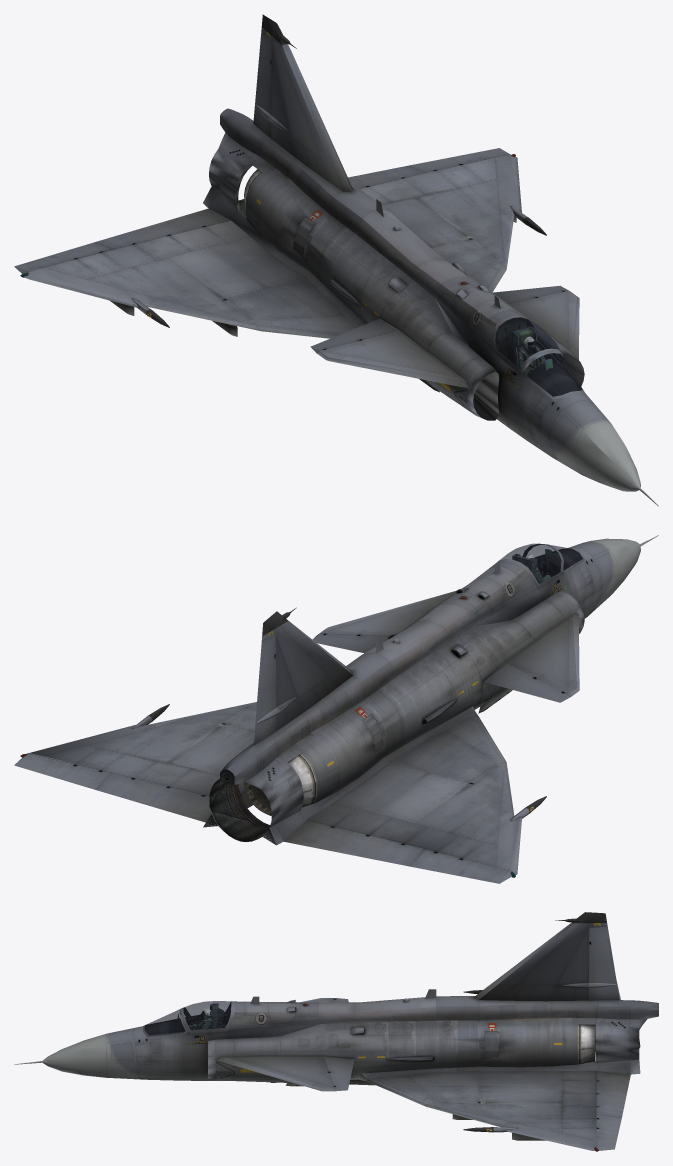
The model's file is Saab-37_Viggen.dat.obj.
The picture shows the model from 3 angles, top to bottom: view 1: azimuth 30°, elevation 25°; view 2: azimuth 150°, elevation 25°; view 3: azimuth 270°, elevation 25°; orthographic projection. The views are drawn at different scales.
Visible parts, largest first — view 1: SAAB-37-Viggen_LOD0_default, SAAB-37-Viggen_Glass01_default, SAAB-37-Viggen_FlapR01_default, SAAB-37-Viggen_RudderL01_default, SAAB-37-Viggen_AileronR01_default, SAAB-37-Viggen_CanardR01_default, SAAB-37-Viggen_AileronL01_default, SAAB-37-Viggen_FlapL01_default; view 2: SAAB-37-Viggen_LOD0_default, SAAB-37-Viggen_FlapR01_default, SAAB-37-Viggen_FlapL01_default, SAAB-37-Viggen_RudderL01_default, SAAB-37-Viggen_AileronR01_default, SAAB-37-Viggen_Glass01_default, SAAB-37-Viggen_AileronL01_default, SAAB-37-Viggen_CanardR01_default, SAAB-37-Viggen_EngineL01_default, SAAB-37-Viggen_CanardL01_default; view 3: SAAB-37-Viggen_LOD0_default, SAAB-37-Viggen_RudderL01_default, SAAB-37-Viggen_Glass01_default, SAAB-37-Viggen_FlapL01_default, SAAB-37-Viggen_AileronL01_default, SAAB-37-Viggen_CanardL01_default, SAAB-37-Viggen_EngineL01_default, SAAB-37-Viggen_Canopy01_default, SAAB-37-Viggen_BrakeL01_default.
Boxes of the visible parts, <box> form: SAAB-37-Viggen_LOD0_default: <box>20,14,658,506</box>; SAAB-37-Viggen_Glass01_default: <box>495,317,582,396</box>; SAAB-37-Viggen_FlapR01_default: <box>96,208,230,249</box>; SAAB-37-Viggen_RudderL01_default: <box>253,31,271,138</box>; SAAB-37-Viggen_AileronR01_default: <box>14,242,111,273</box>; SAAB-37-Viggen_CanardR01_default: <box>310,319,395,353</box>; SAAB-37-Viggen_AileronL01_default: <box>409,148,510,172</box>; SAAB-37-Viggen_FlapL01_default: <box>348,165,425,188</box>; SAAB-37-Viggen_LOD0_default: <box>20,535,658,877</box>; SAAB-37-Viggen_FlapR01_default: <box>284,820,425,866</box>; SAAB-37-Viggen_FlapL01_default: <box>96,772,211,822</box>; SAAB-37-Viggen_RudderL01_default: <box>253,633,280,745</box>; SAAB-37-Viggen_AileronR01_default: <box>409,849,511,883</box>; SAAB-37-Viggen_Glass01_default: <box>499,543,582,583</box>; SAAB-37-Viggen_AileronL01_default: <box>14,753,112,789</box>; SAAB-37-Viggen_CanardR01_default: <box>483,663,570,702</box>; SAAB-37-Viggen_EngineL01_default: <box>244,754,317,816</box>; SAAB-37-Viggen_CanardL01_default: <box>312,633,389,653</box>; SAAB-37-Viggen_LOD0_default: <box>14,912,658,1151</box>; SAAB-37-Viggen_RudderL01_default: <box>588,926,619,1000</box>; SAAB-37-Viggen_Glass01_default: <box>145,1001,230,1034</box>; SAAB-37-Viggen_FlapL01_default: <box>596,1071,630,1117</box>; SAAB-37-Viggen_AileronL01_default: <box>595,1114,621,1150</box>; SAAB-37-Viggen_CanardL01_default: <box>323,1057,354,1091</box>; SAAB-37-Viggen_EngineL01_default: <box>577,1025,594,1064</box>; SAAB-37-Viggen_Canopy01_default: <box>181,1001,234,1033</box>; SAAB-37-Viggen_BrakeL01_default: <box>479,1031,499,1057</box>.
Size of the model in its own units: 10.86 by 5.03 by 16.37.
